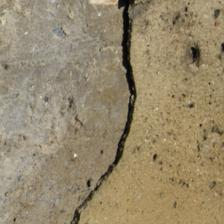Crack: (73, 156, 124, 222), (118, 3, 140, 154)
